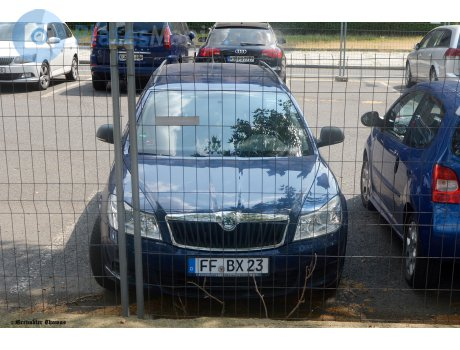License Plates: (195, 257, 260, 273)
